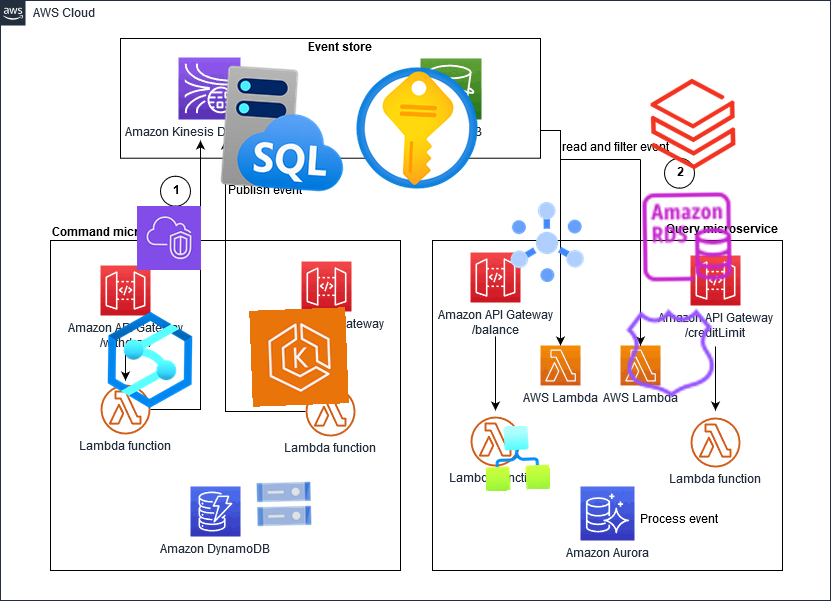aws_amazon_elastic_kubernetes_service: (249, 307, 349, 407)
aws_amazon_virtual_private_cloud: (136, 205, 202, 271)
aws_aurora_amazon_rds_instance: (638, 188, 736, 286)
aws_route_53_hosted_zone: (621, 303, 721, 403)
azure_databricks: (643, 74, 743, 174)
azure_key_vaults: (349, 60, 485, 196)
azure_logic_apps: (483, 424, 551, 492)
azure_sql_managed_instance: (216, 60, 354, 198)
azure_synapse_analytics: (101, 311, 199, 409)
gcp_cloud_storage: (251, 471, 317, 537)
gcp_pubsub: (498, 193, 596, 291)
